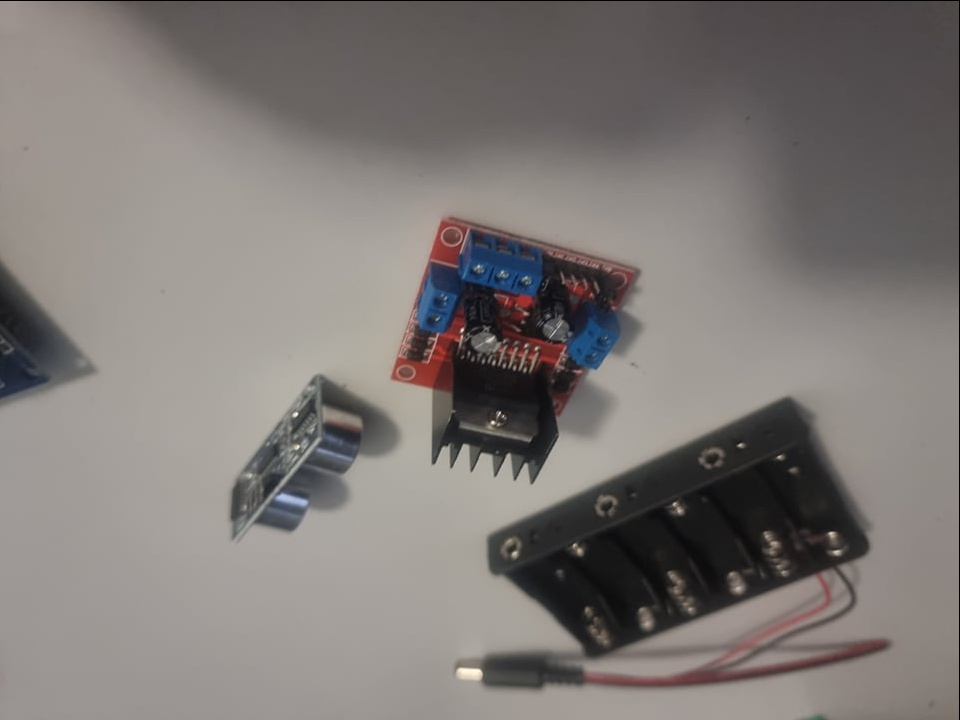BATTERY BOX: (489, 388, 872, 659)
MOTOR: (396, 212, 648, 483)
SENSOR: (228, 372, 366, 545)
